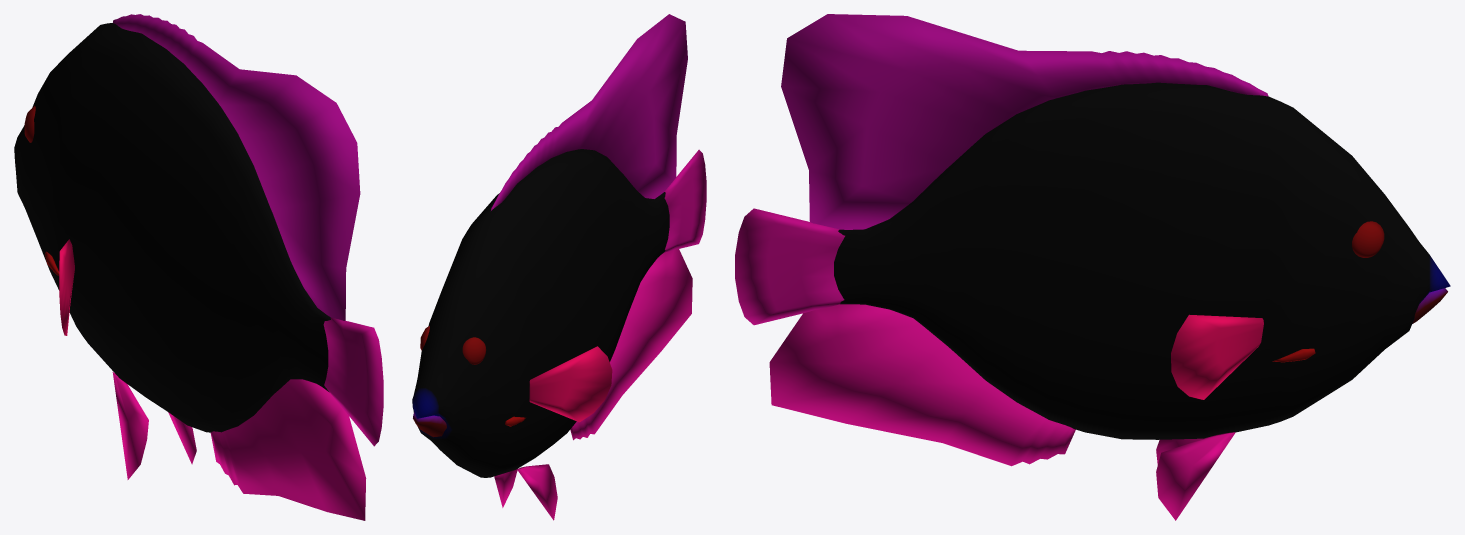
File: angelfish_french_game.glb
3 views of the same model, side by side, from view 1: azimuth 30°, elevation 25°; view 2: azimuth 150°, elevation 25°; view 3: azimuth 270°, elevation 25° (orthographic). The views are drawn at different scales.
Visible parts, largest first — view 1: angelfish_french_game; view 2: angelfish_french_game; view 3: angelfish_french_game.
Part boxes in pixels (x1,y1,x2,y2): angelfish_french_game: (14, 14, 383, 520); angelfish_french_game: (412, 14, 706, 520); angelfish_french_game: (735, 14, 1450, 520).
Bounding box in the file's own units: 0.1145 × 0.265 × 0.3498.
